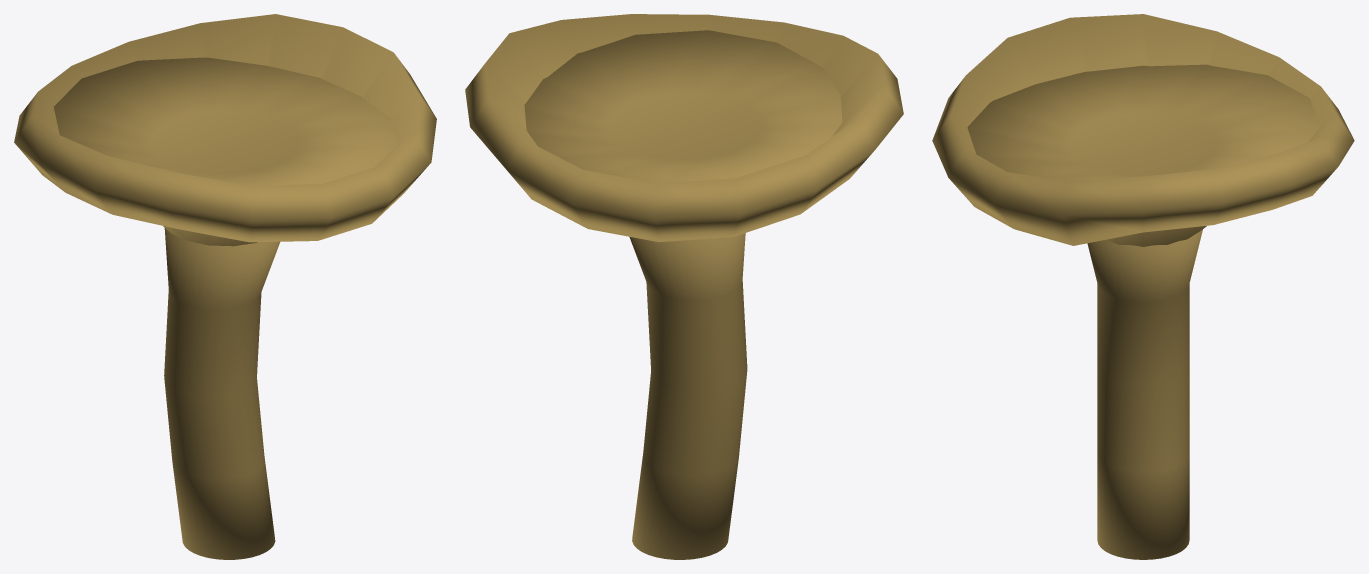
File: SvinushkaMushroom.fbx
3 views of the same model, side by side, from view 1: azimuth 30°, elevation 25°; view 2: azimuth 150°, elevation 25°; view 3: azimuth 270°, elevation 25° (orthographic). The views are drawn at different scales.
Visible parts, largest first — view 1: Cylinder.007; view 2: Cylinder.007; view 3: Cylinder.007.
Part boxes in pixels (x1,y1,x2,y2): Cylinder.007: [14, 14, 436, 559]; Cylinder.007: [465, 14, 903, 559]; Cylinder.007: [932, 14, 1354, 559].
Size of the model in its own units: 14.03 by 16.35 by 14.03.
